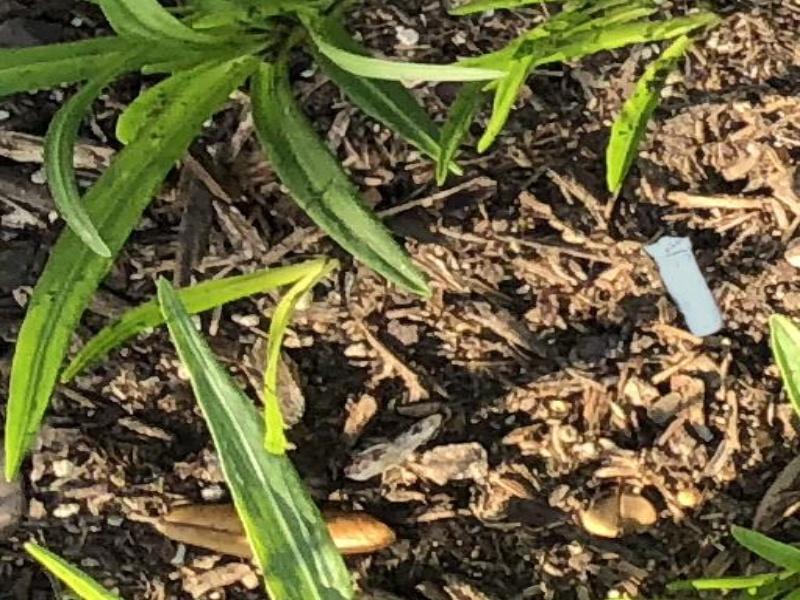cig: (637, 236, 736, 340)
